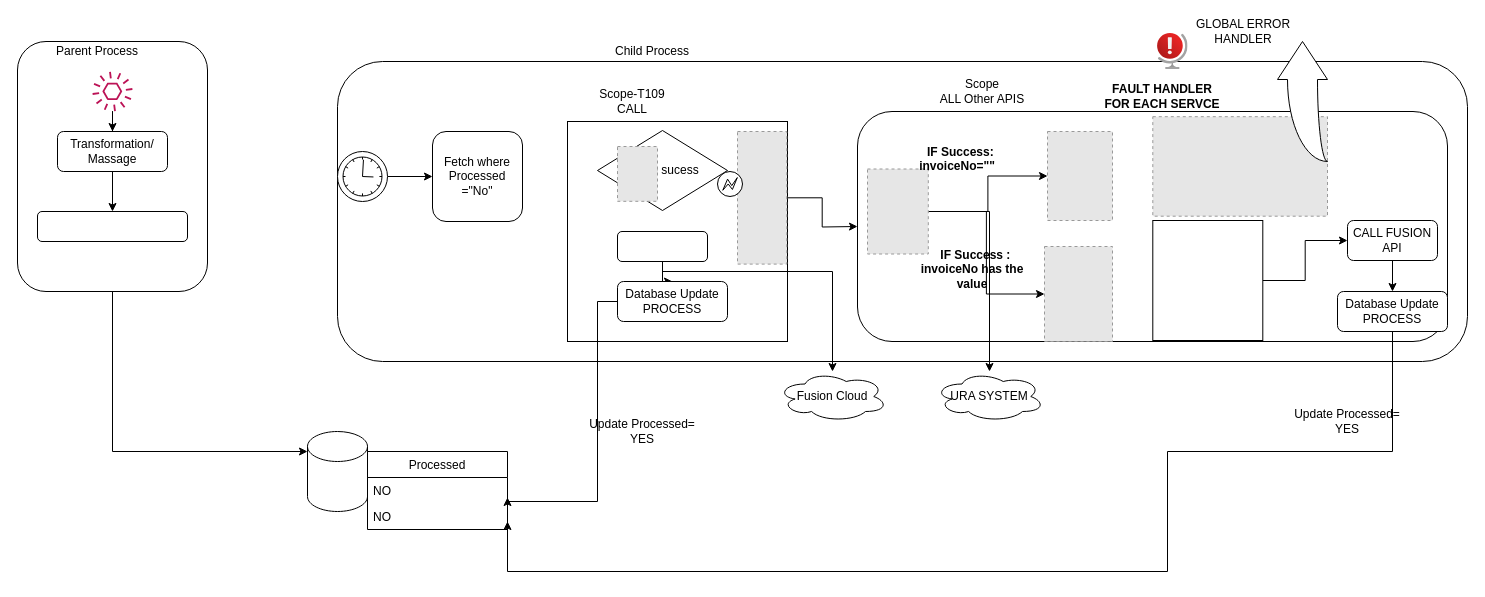
The diagram is 1485 pixels wide and 597 high, and some of its shapes have lost their labels. Grey dashed boxes stand in for pictures. Here are the shapes that lost their labels. From the top down, the centre of each, then its label:
point (112, 226): Insert_TO_Database
point (662, 246): CALL API
point (1207, 280): only if we get QR CODE ,SIGNATURE, INVOICENUMBER
point (337, 471): Database
